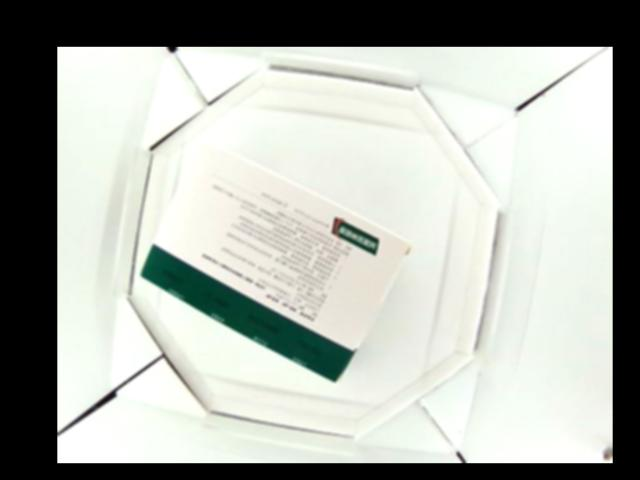Medicine: (138, 140, 409, 381)
